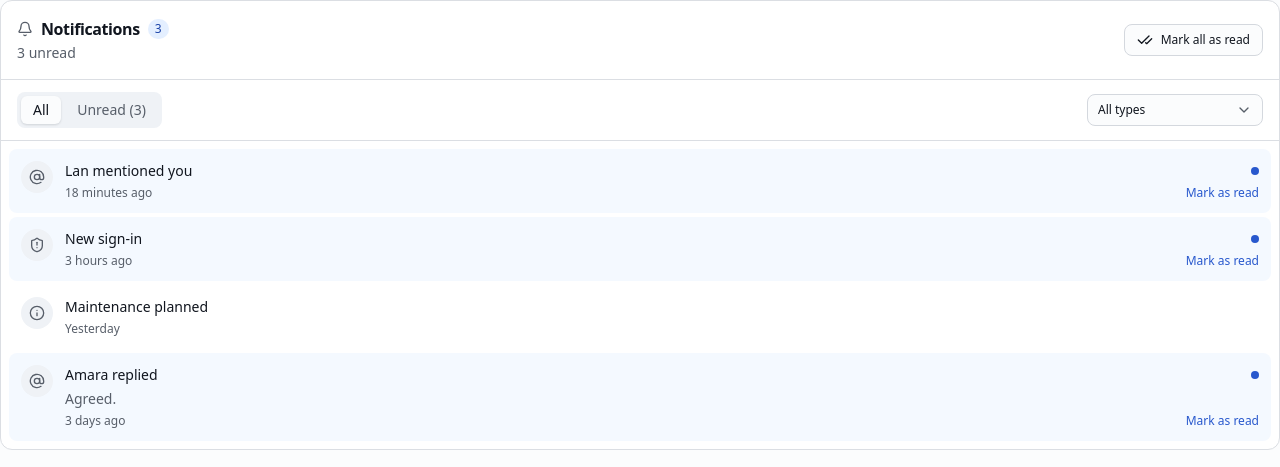
NotificationCenter › reports which notification was marked read and updates the count
What coordinates should you click on to do the following:
click the button with aria-label "Mark as read: Lan mentioned you"
I would click on:
 (1222, 193)
Its box is [1186,185,1259,201].
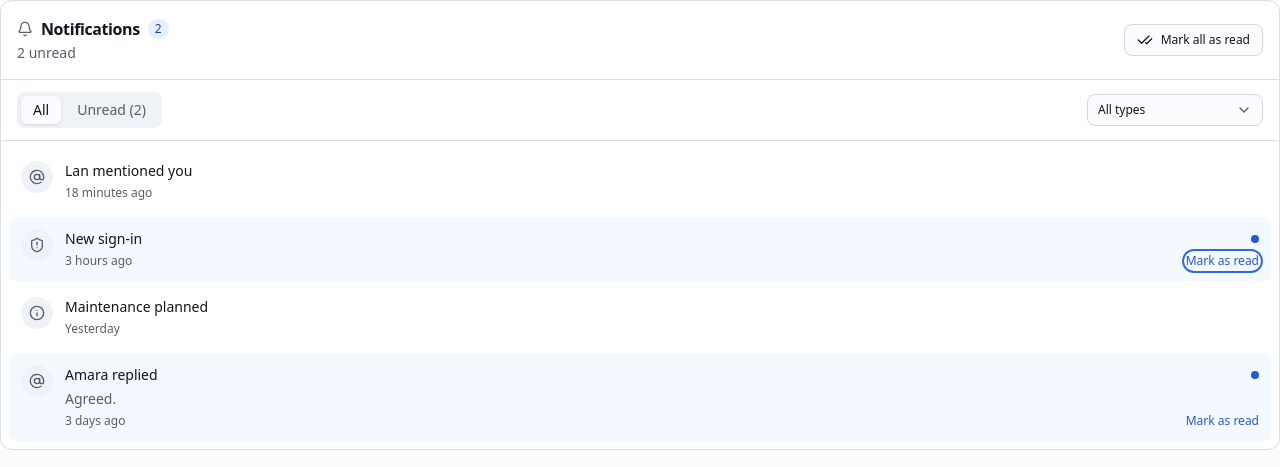
Expected: the message reads "2 unread", [17,43,76,62]
